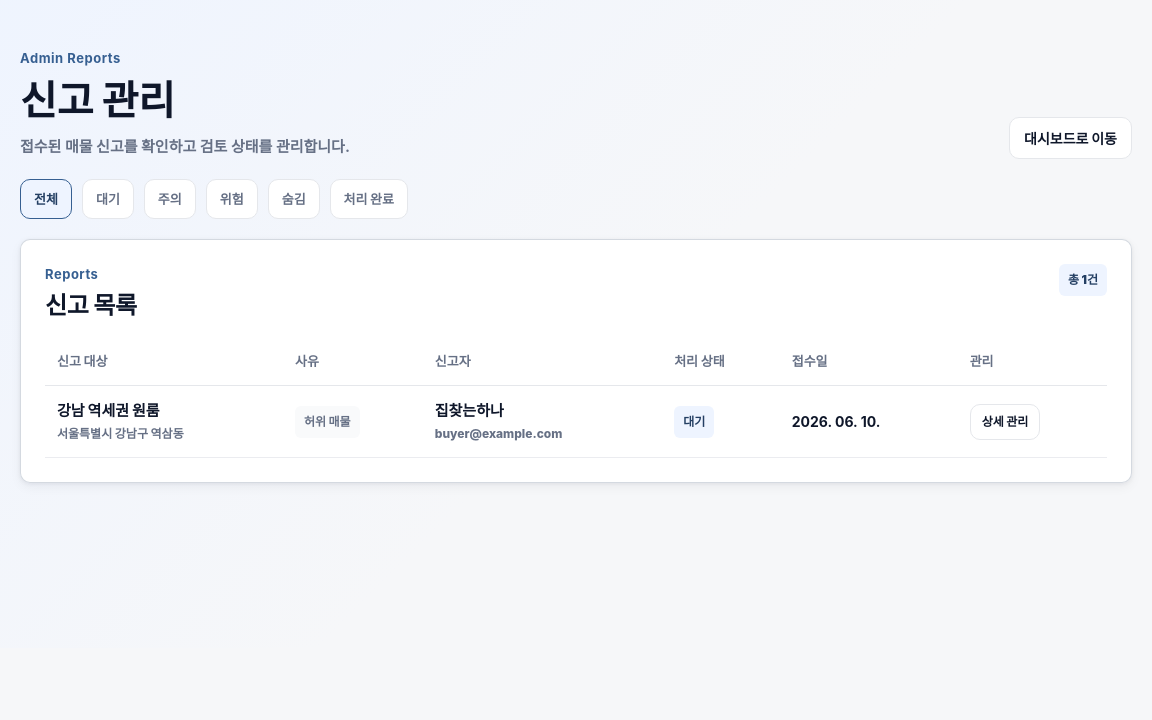
Test case: AdminReportsView › 상세 관리 버튼을 누르면 신고 상세를 조회하고 패널에 표시한다
This screenshot has width=1152, height=720.
What coordinates should you click on to do the following:
click the button "상세 관리"
I would click on:
 (1005, 422)
Its box is [970,404,1040,440].
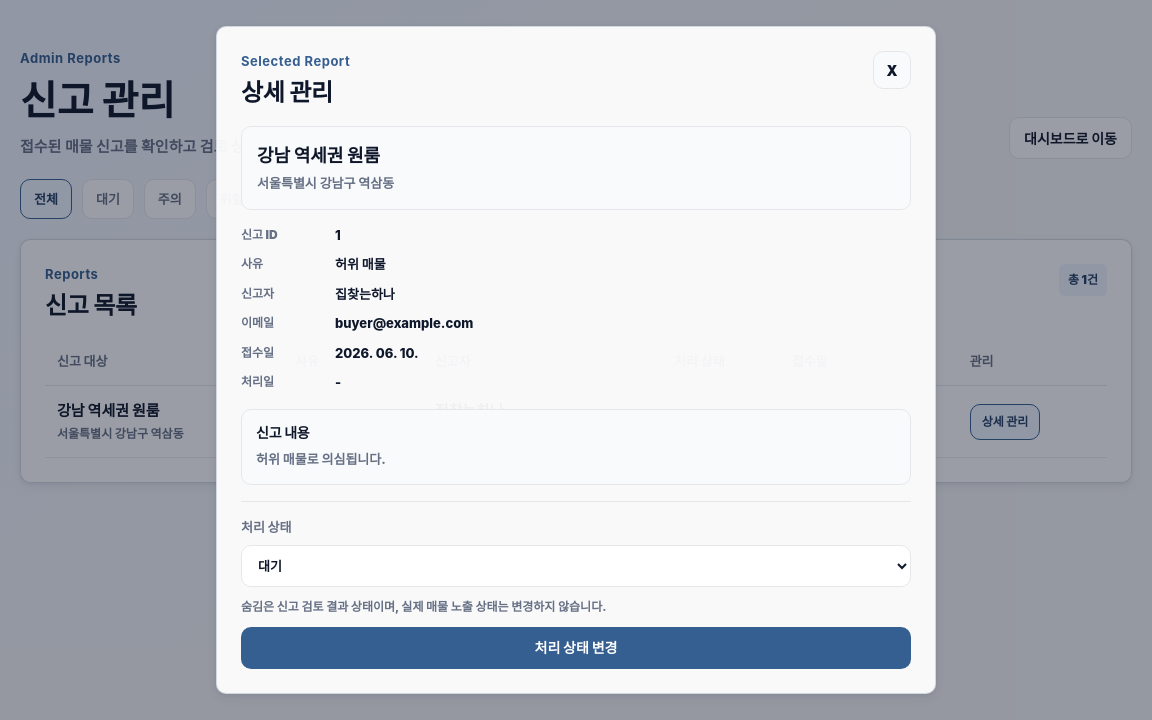
Now the text "신고 내용" is shown, box [256,424,310,441]
Now the text "허위 매물로 의심됩니다." is shown, box [256,451,386,467]
Now the text "실제 매물 노출 상태는 변경하지 않습니다." is shown, box [241,600,606,614]
